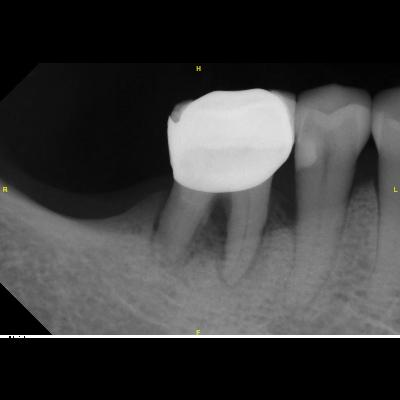tooth: (272, 81, 374, 321)
